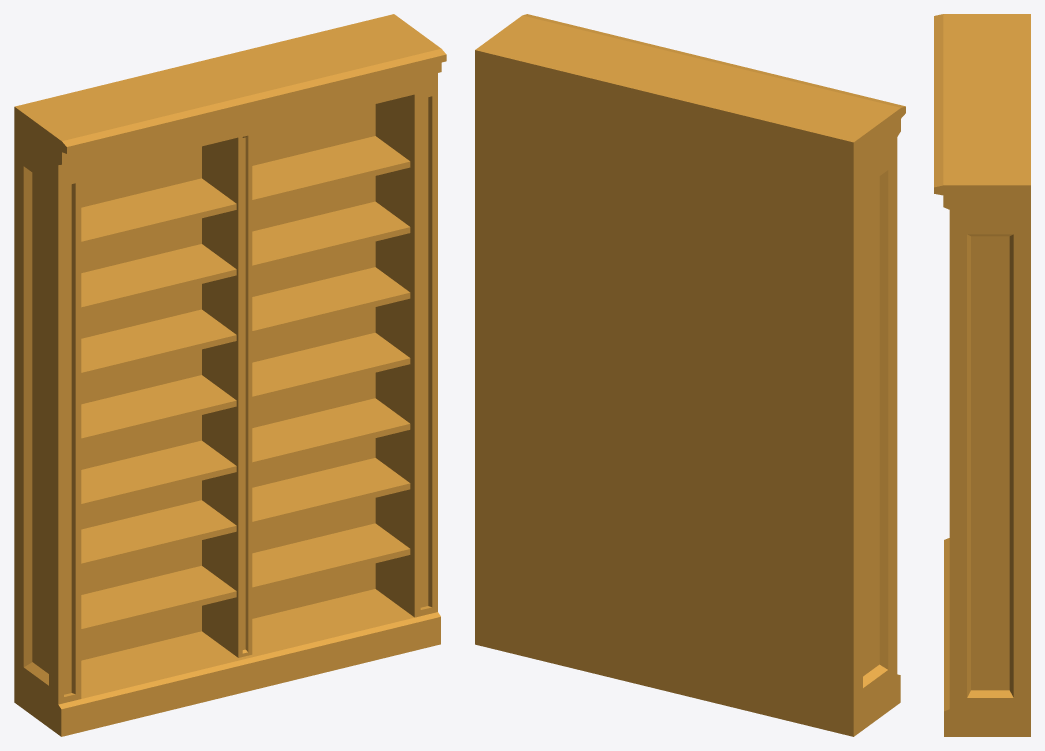
File: Sm_Bookcase_Modular_2m.fbx
3 views of the same model, side by side, from view 1: azimuth 30°, elevation 25°; view 2: azimuth 150°, elevation 25°; view 3: azimuth 270°, elevation 25° (orthographic). The views are drawn at different scales.
Visible parts, largest first — view 1: bookcase-modular-2m; view 2: bookcase-modular-2m; view 3: bookcase-modular-2m.
Boxes of the visible parts, <box> form: bookcase-modular-2m: <box>14,14,446,736</box>; bookcase-modular-2m: <box>475,14,905,736</box>; bookcase-modular-2m: <box>934,14,1030,736</box>.
Size of the model in its own units: 2 by 3 by 0.4778.
